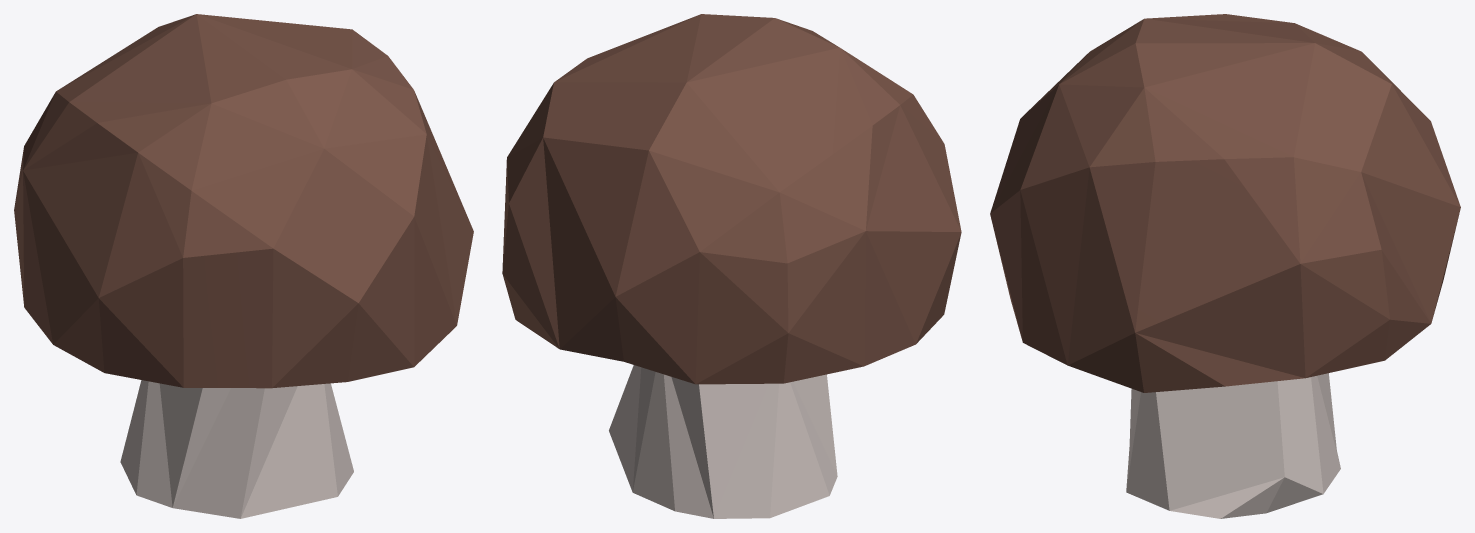
Rendered from fantasy_plant_039.fbx.
The picture shows the model from 3 angles, left to right: view 1: azimuth 30°, elevation 25°; view 2: azimuth 150°, elevation 25°; view 3: azimuth 270°, elevation 25°; orthographic projection.
Visible parts, largest first — view 1: fantasy_plant.039; view 2: fantasy_plant.039; view 3: fantasy_plant.039.
Boxes of the visible parts, box(x1,y1,x2,y2) form: fantasy_plant.039: box(14, 14, 473, 518); fantasy_plant.039: box(502, 14, 961, 518); fantasy_plant.039: box(990, 14, 1460, 518).
Size of the model in its own units: 202 by 217 by 217.
1 material, 1 textured.
